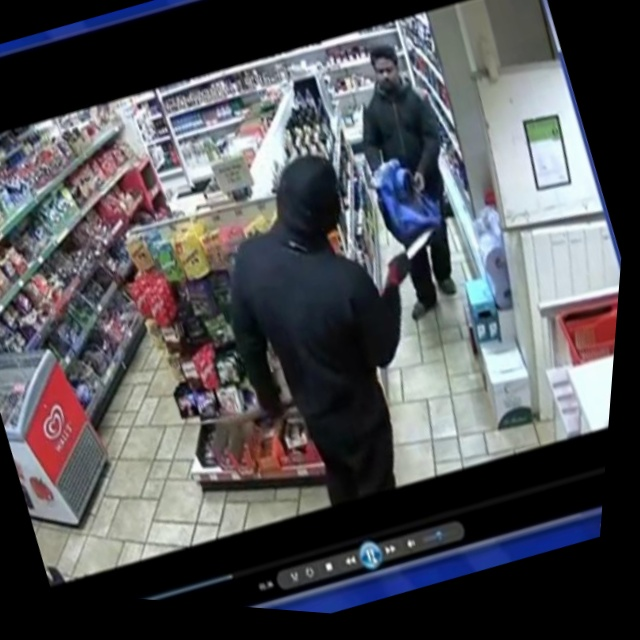gun: (377, 219, 454, 282)
